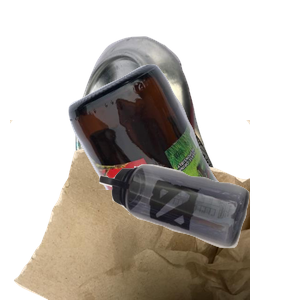glass: (66, 61, 300, 241)
metal: (73, 34, 285, 214)
plastic: (97, 162, 300, 300)
trash: (10, 120, 250, 300)
